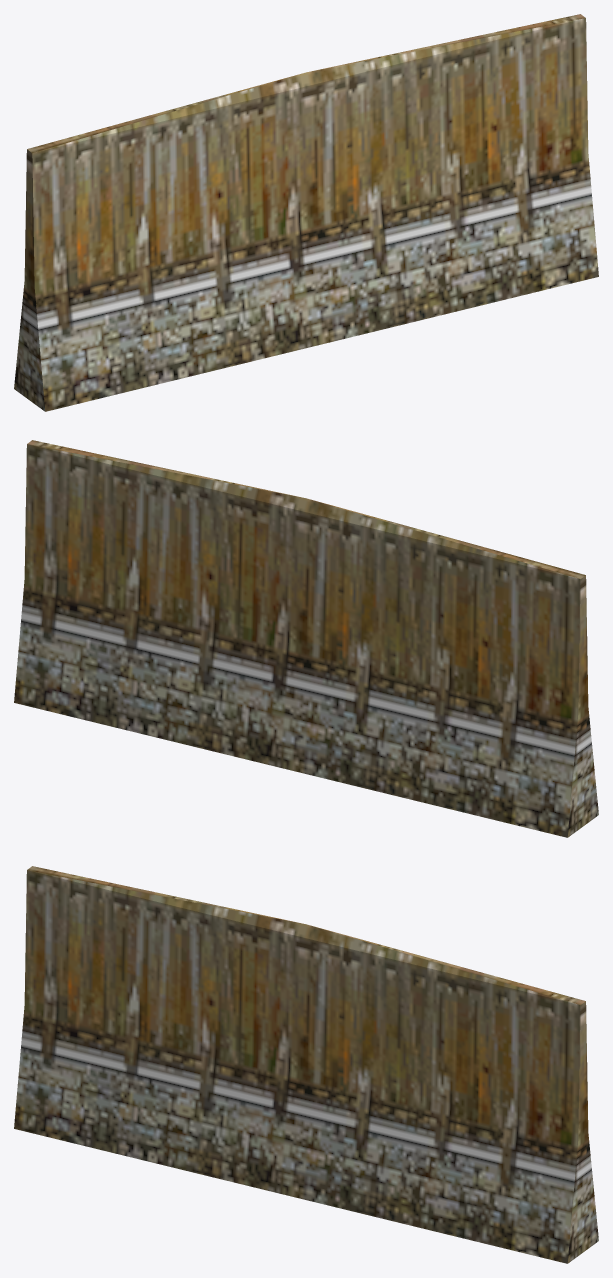
File: death.glb
3 renders of one model, top to bottom at view 1: azimuth 30°, elevation 25°; view 2: azimuth 150°, elevation 25°; view 3: azimuth 330°, elevation 25°, orthographic.
Visible parts, largest first — view 1: MeshRoot; view 2: MeshRoot; view 3: MeshRoot.
Boxes of the visible parts, x1,y1,x2,y2 form: MeshRoot: (14, 14, 598, 411); MeshRoot: (14, 440, 598, 837); MeshRoot: (14, 866, 598, 1263).
Bounding box in the file's own units: 7.22 × 3.25 × 0.707.
2 materials, 2 textured.
